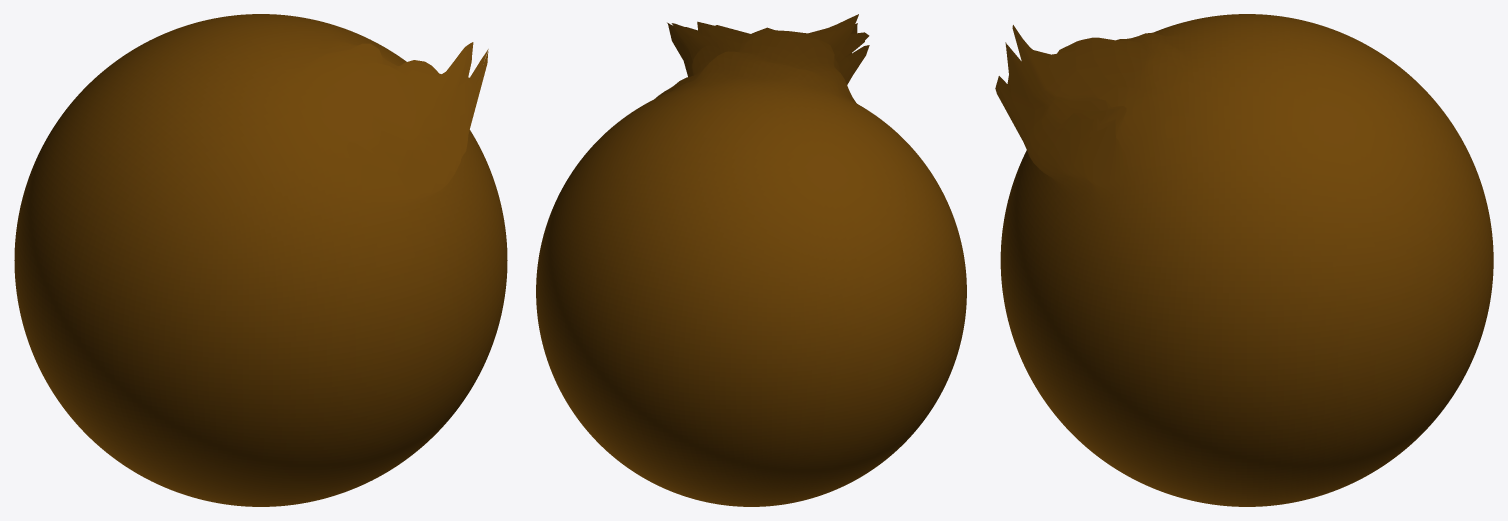
File: cebolla.fbx
3 renders of one model, left to right at view 1: azimuth 30°, elevation 25°; view 2: azimuth 150°, elevation 25°; view 3: azimuth 270°, elevation 25°, orthographic. The views are drawn at different scales.
Parts seen in each view (by area): view 1: Quad Sphere; view 2: Quad Sphere; view 3: Quad Sphere.
Boxes of the visible parts, x1,y1,x2,y2 form: Quad Sphere: [14, 14, 507, 506]; Quad Sphere: [536, 14, 966, 506]; Quad Sphere: [995, 14, 1493, 506].
Size of the model in its own units: 257 by 263 by 260.
